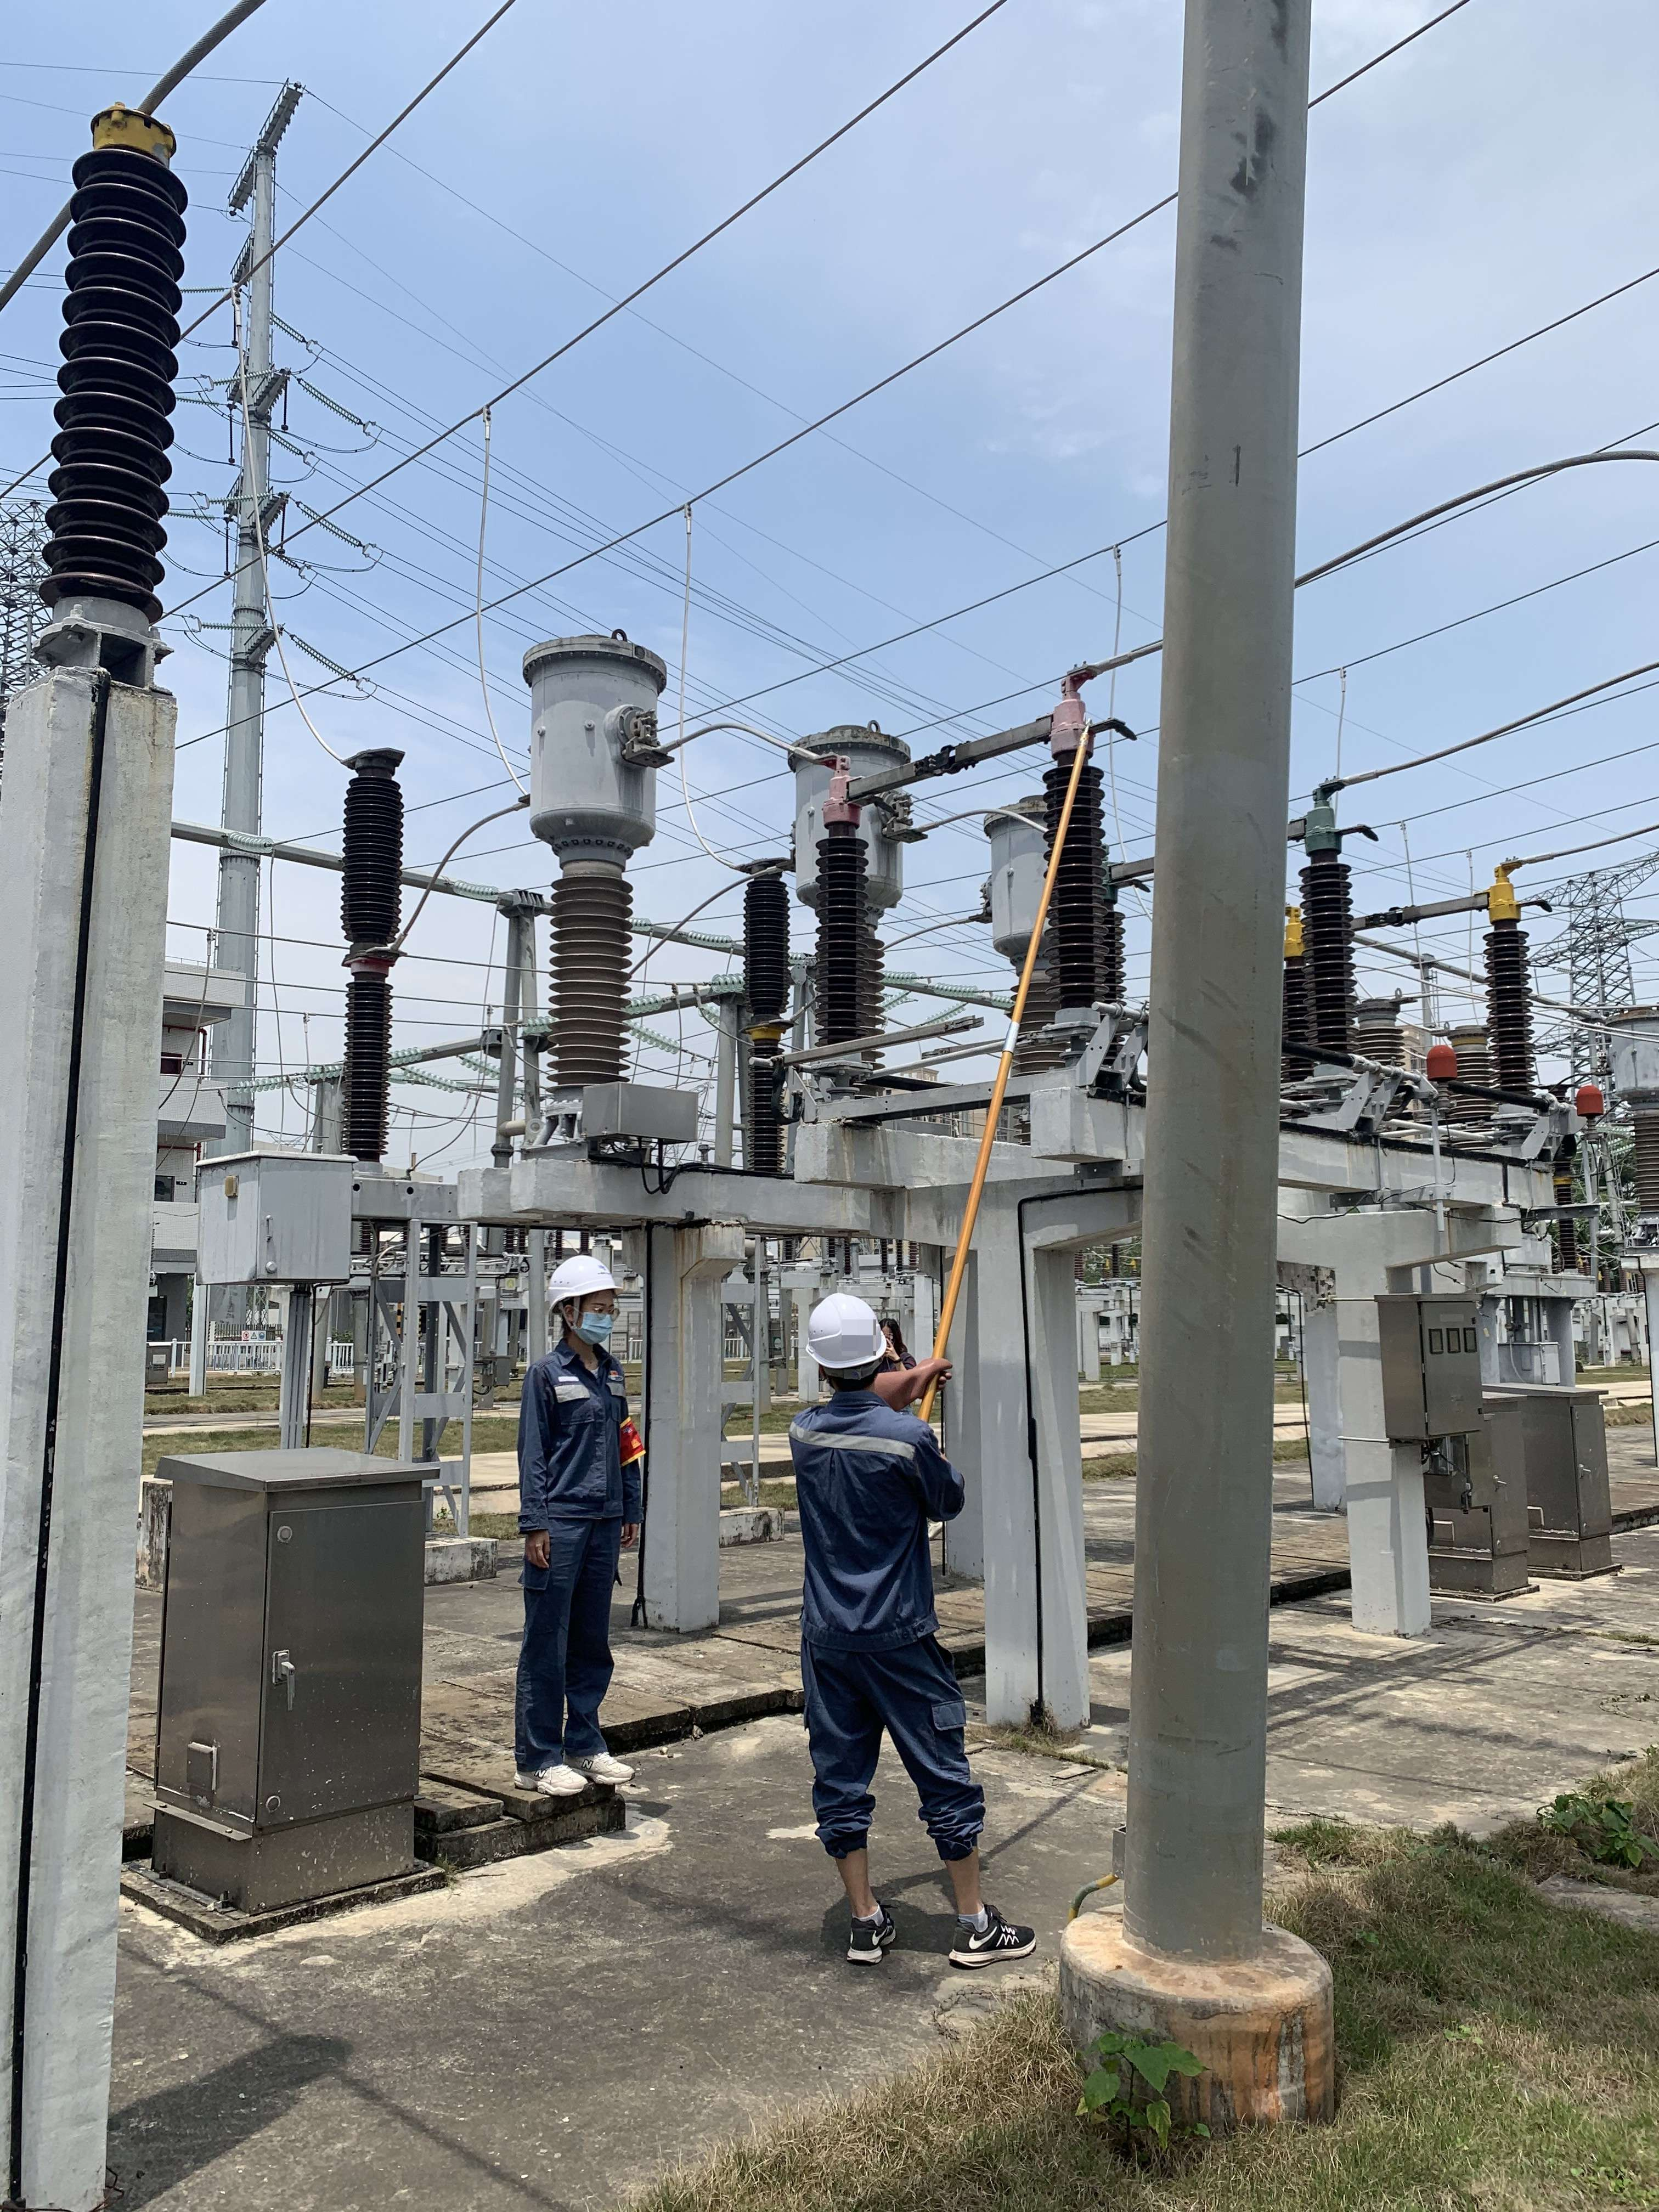downsuit: (798, 1662, 993, 1860), (523, 1555, 615, 1771)
upsuit: (781, 1395, 976, 1653), (523, 1348, 636, 1533)
wrongbottom: (915, 1787, 992, 1928), (810, 1791, 884, 1907)
